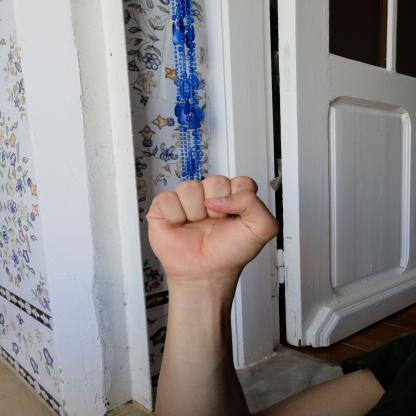SAD: (129, 166, 298, 291)
